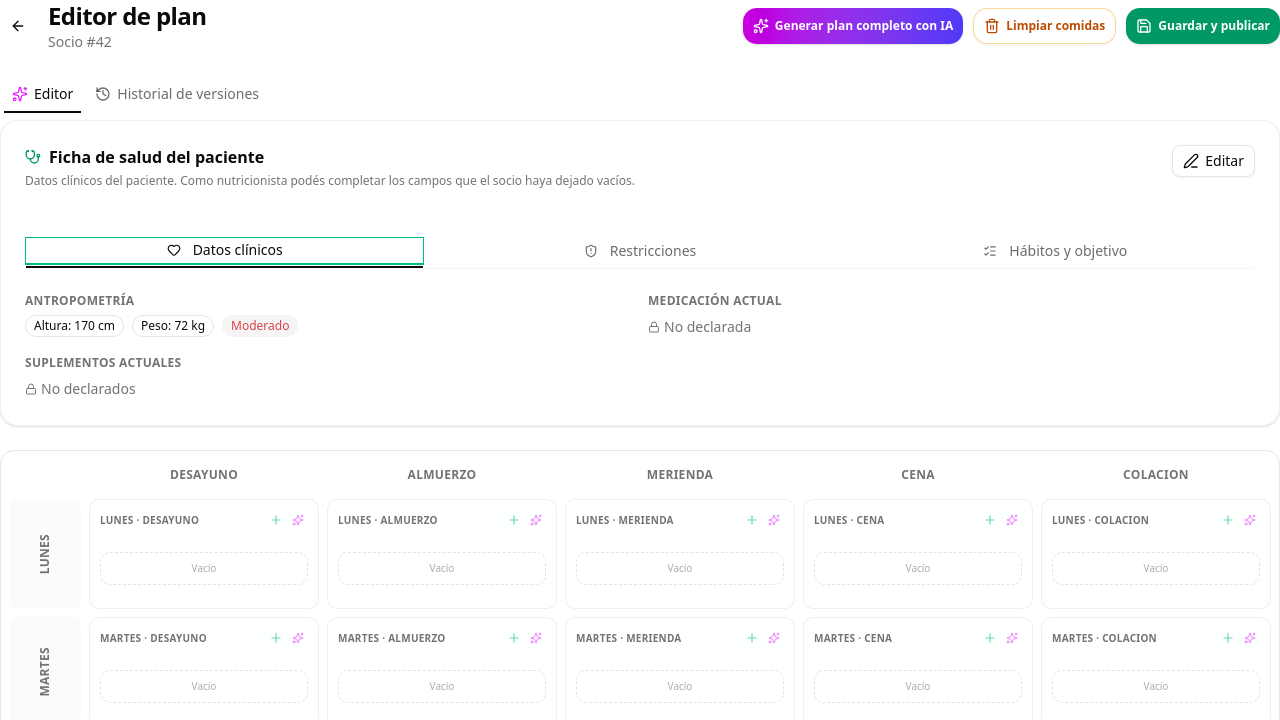
Scenario: PlanEditorPage (Packet 5b) › entra directo a la grilla vacía y expone el generador IA en el header
This screenshot has width=1280, height=720.
What coordinates should you click on to do the following:
click the button with test id "abrir-generador-ia-btn"
I would click on:
 (853, 26)
Its box is x1=743 y1=8 x2=963 y2=44.
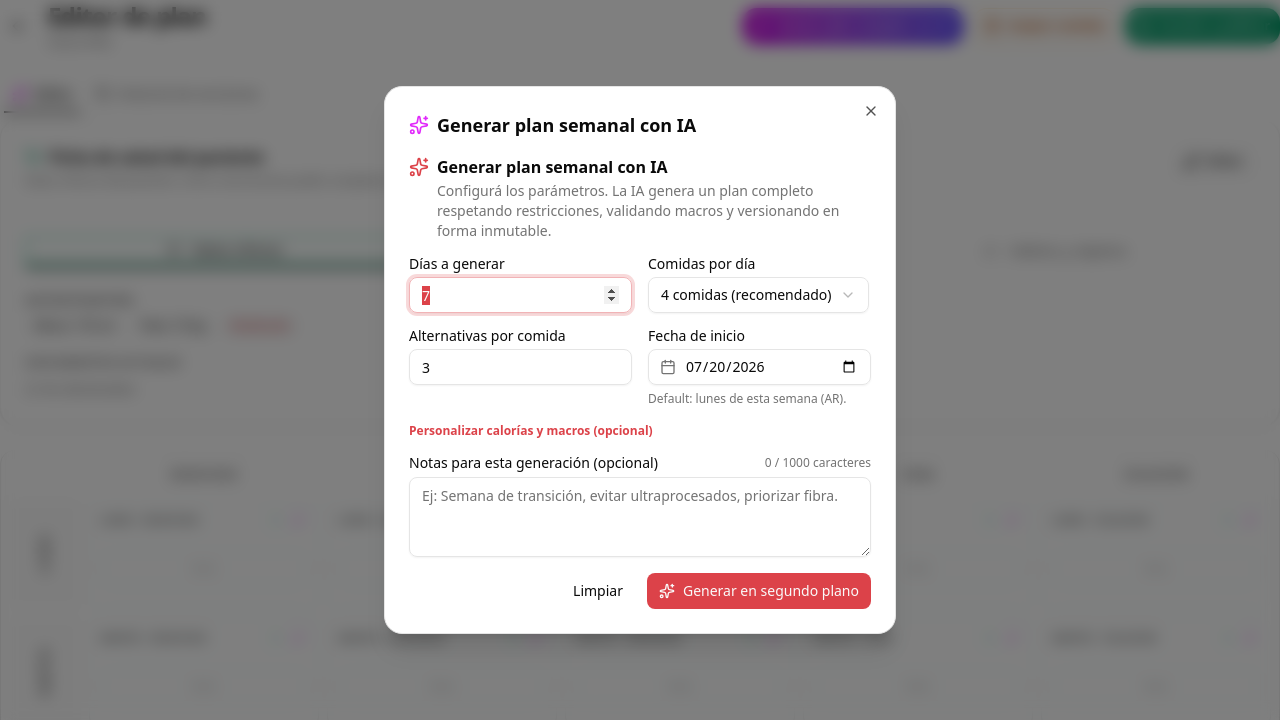
Now the button with test id "generar-plan-button" is shown, box x1=647 y1=573 x2=871 y2=609
